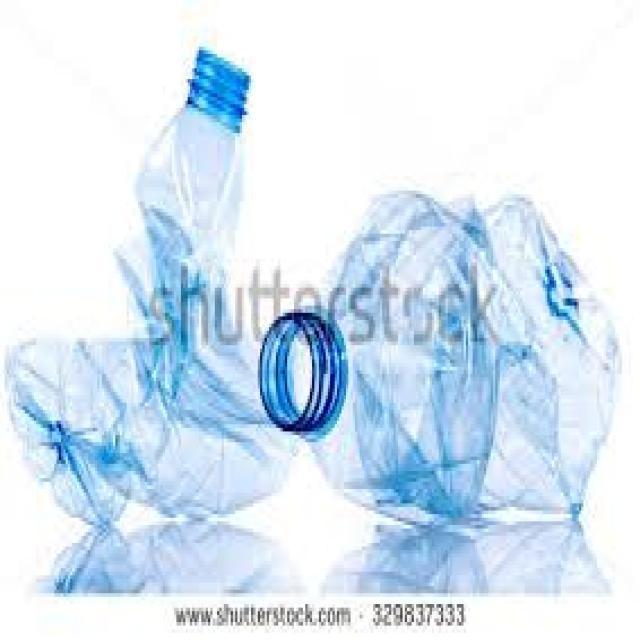Anorganik: (2, 43, 296, 532), (256, 183, 620, 536)
